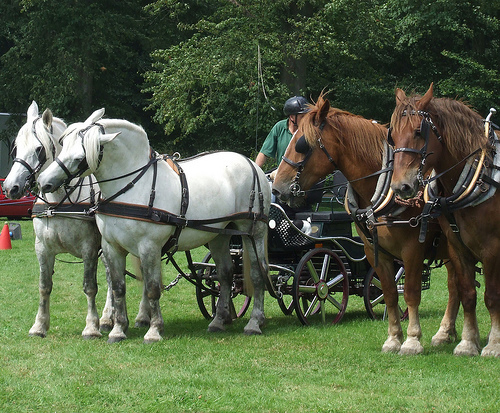horse: (24, 105, 276, 345), (269, 87, 454, 355), (384, 81, 500, 357), (1, 101, 103, 341)
